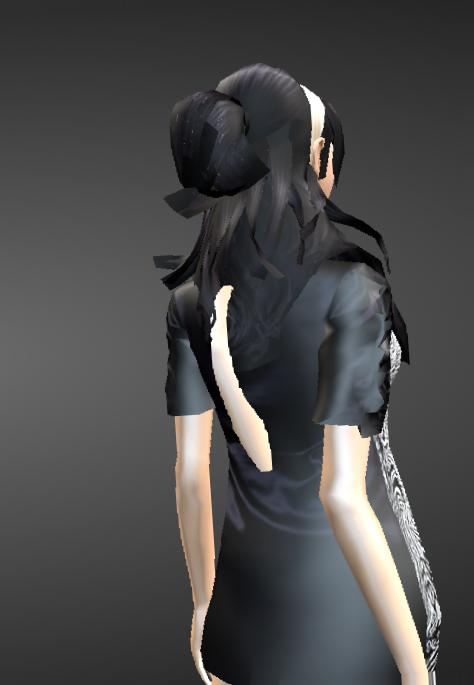clip: (210, 282, 242, 332)
